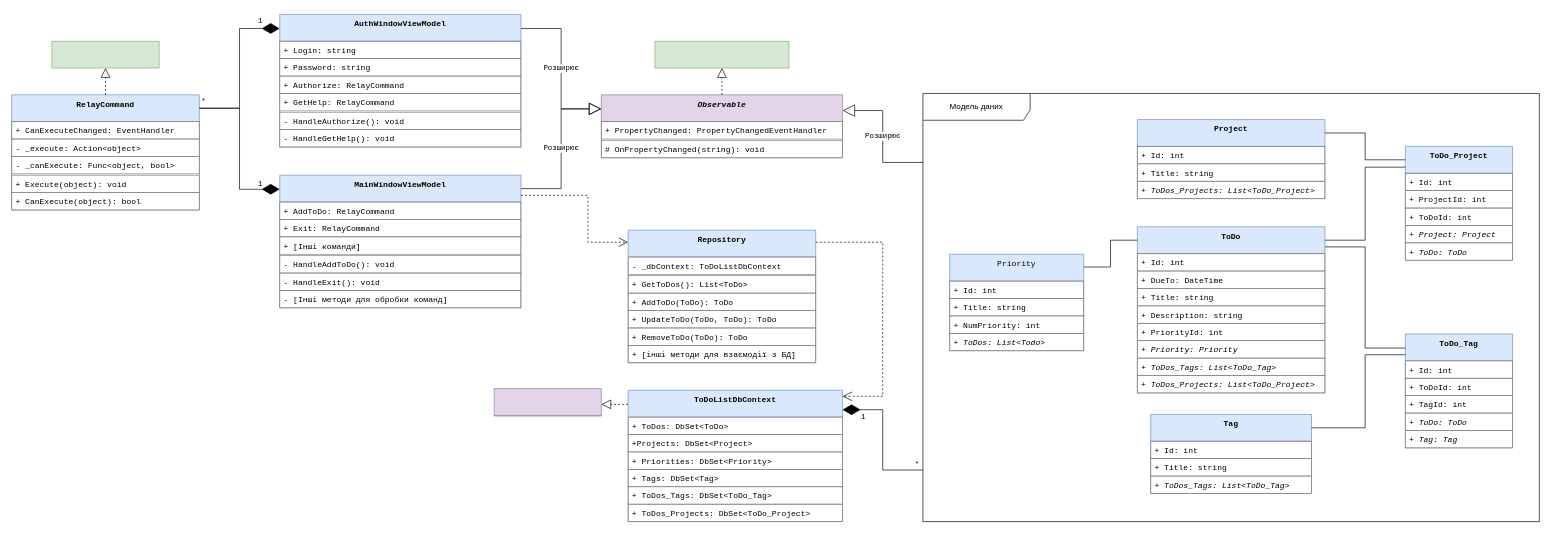
The diagram is 1551 pixels wide and 535 high, and some of its shapes have lost their labels. The shapes that lost their labels are listed below. From the top down, each one's centre as x and y in pixels, then its label:
point (105, 54): «interface» ICommand
point (721, 54): «interface» INotifyPropertyChanged
point (547, 402): DbContext
